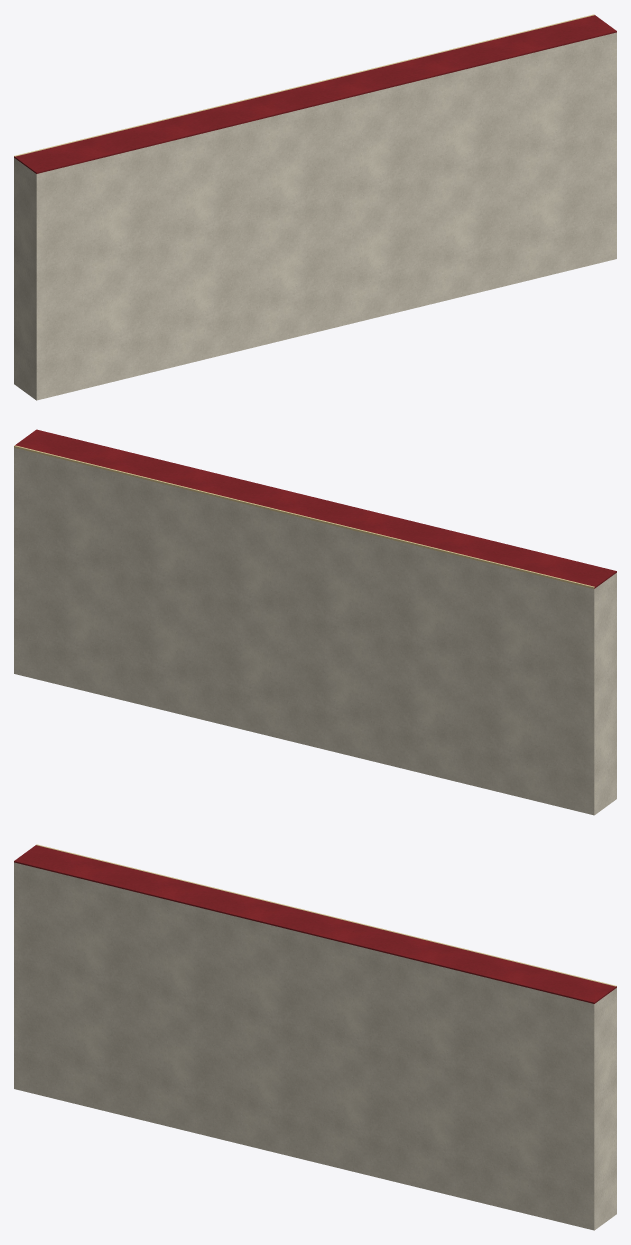
Rendered from tier_01.glb.
3 views of the same model, one above another, from view 1: azimuth 30°, elevation 25°; view 2: azimuth 150°, elevation 25°; view 3: azimuth 330°, elevation 25° (orthographic).
Visible parts, largest first — view 1: tier_01_trim, tier_01_carpet, tier_01_gold; view 2: tier_01_trim, tier_01_carpet, tier_01_gold; view 3: tier_01_trim, tier_01_carpet, tier_01_gold.
Part boxes in pixels (box(x1,y1,x2,y2)): tier_01_trim: box(14, 32, 616, 400); tier_01_carpet: box(14, 15, 616, 173); tier_01_gold: box(14, 14, 594, 156); tier_01_trim: box(14, 447, 616, 815); tier_01_carpet: box(15, 429, 616, 588); tier_01_gold: box(14, 445, 594, 588); tier_01_trim: box(14, 862, 616, 1230); tier_01_carpet: box(14, 845, 616, 1003); tier_01_gold: box(36, 844, 616, 986).
Bounding box in the file's own units: 13.4 × 5.03 × 0.905.
3 materials, 2 textured.
